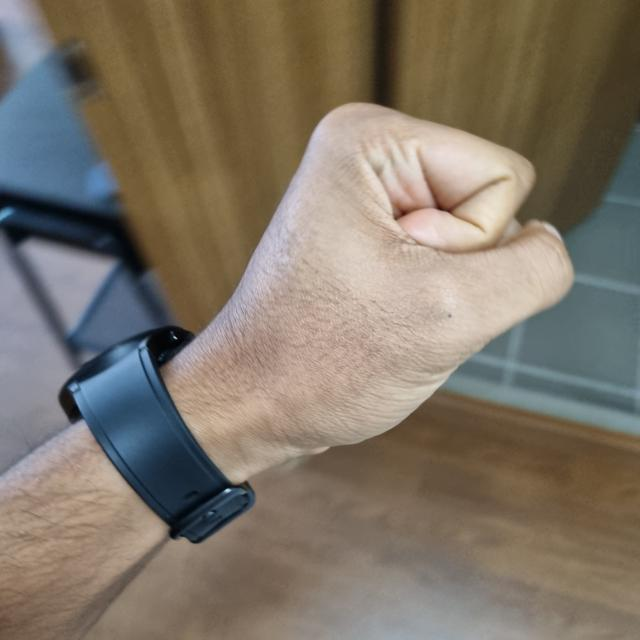Rock: (169, 102, 572, 467)
